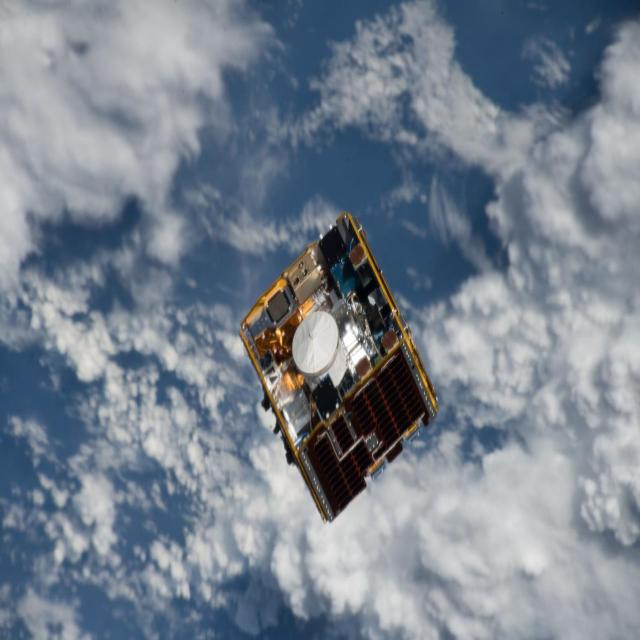satellite: (240, 212, 436, 521)
